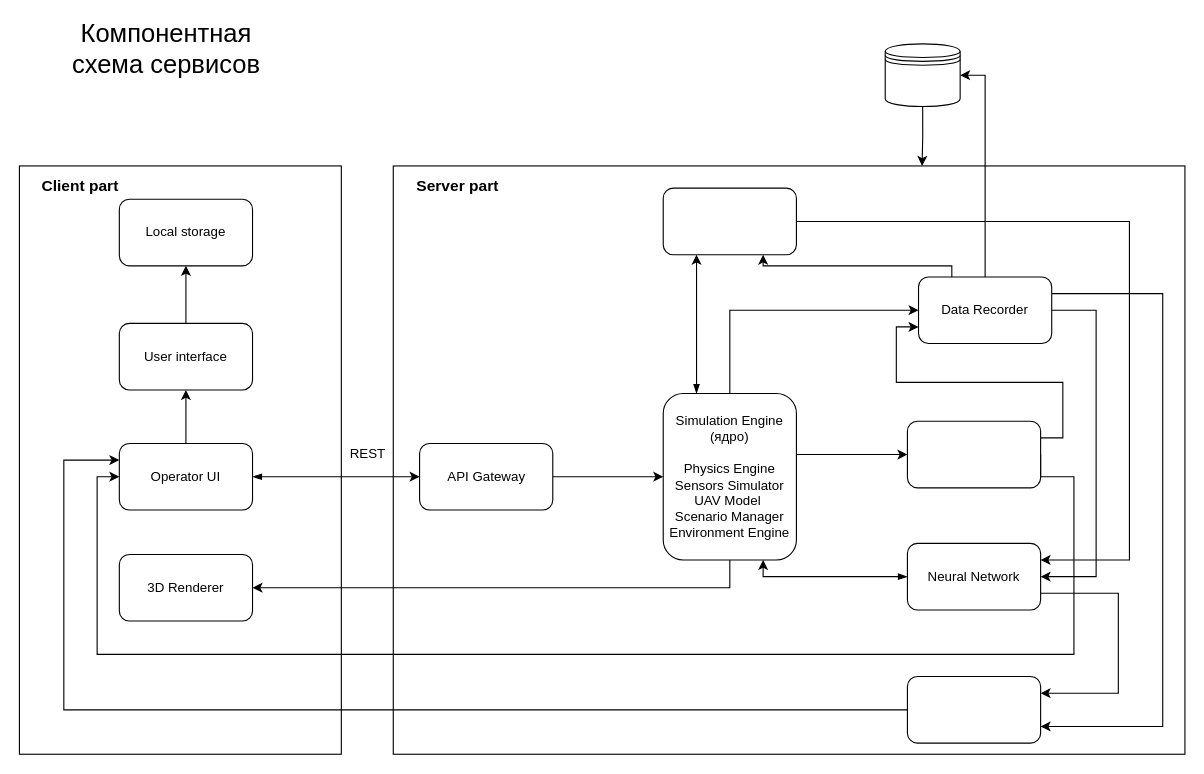
Some shapes in this 1204 by 774 pixel diagram are drawn without their labels. The shapes that lost their labels are listed below. From the top down, each one's box as (x1, y1, x2, y2) in pixels, then its label:
(884, 43, 960, 107): NoSQL
(662, 187, 796, 255): Training Module
(906, 420, 1041, 488): Telemetry Service
(906, 675, 1041, 743): Analytics Service
